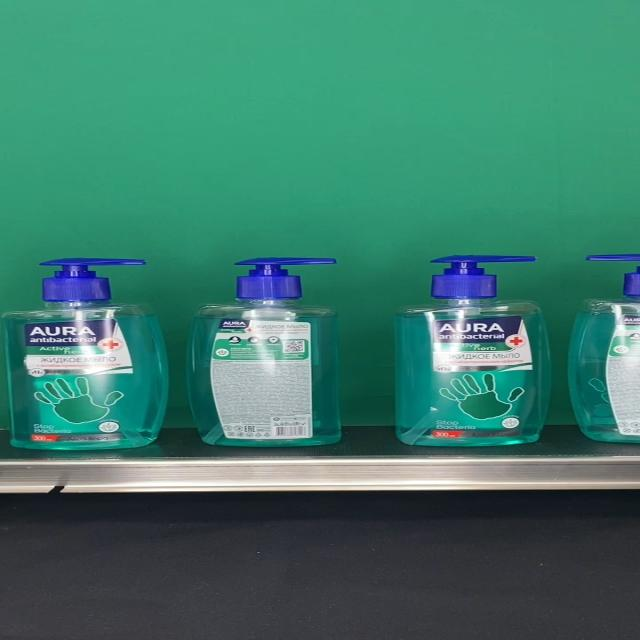Bottle: (0, 257, 168, 450), (186, 256, 342, 448), (394, 255, 550, 447)
Cap: (37, 258, 146, 300), (429, 255, 537, 297), (234, 257, 337, 299)
